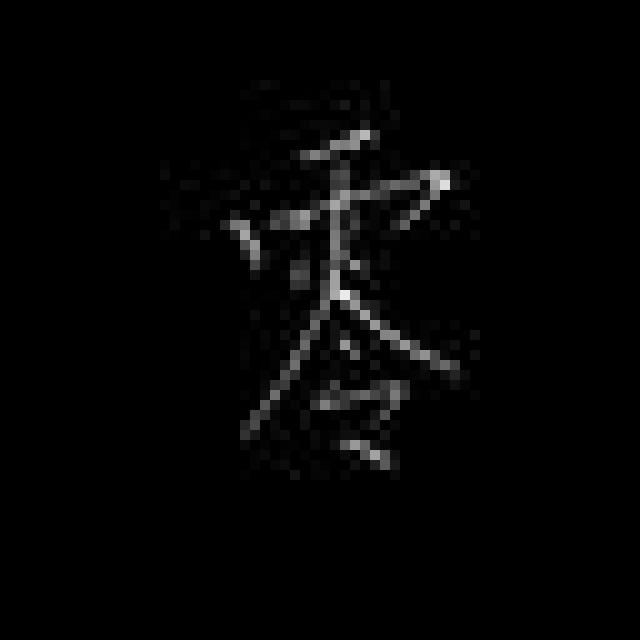0 -zero-: (216, 118, 467, 480)
